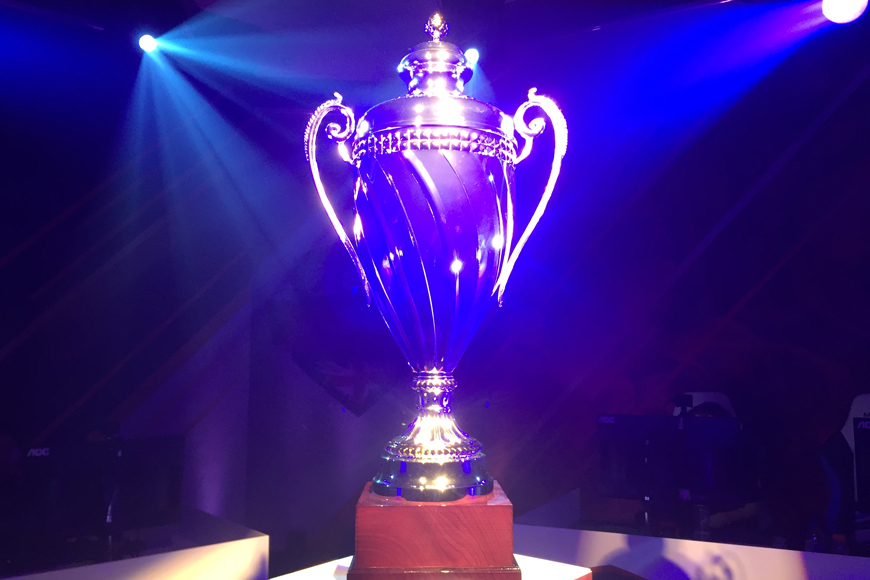trophy: (295, 7, 580, 580)
